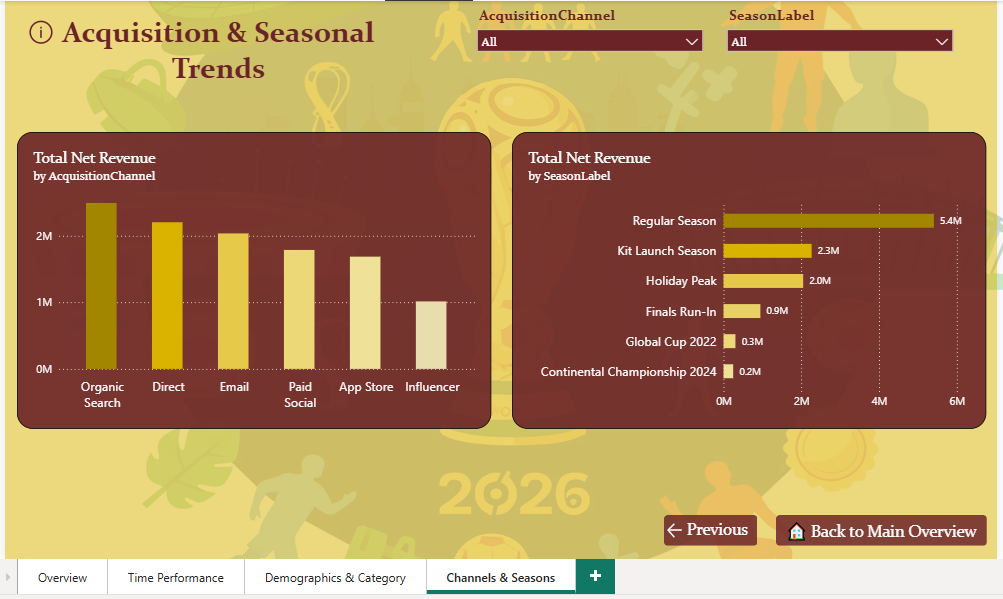

The page's visual inventory and layout, read from the dashboard file:
{"tool":"powerbi","page":{"name":"Channels & Seasons","canvas":[1280,720],"ordinal":3},"visuals":[{"type":"textbox","box":[22.7,17,504.6,106.3],"z":0},{"type":"barChart","fields":{"Category":["Date.SeasonLabel"],"Y":["Sales.Total Net Revenue"]},"box":[654.8,168.7,612.3,382.7],"z":1000},{"type":"columnChart","fields":{"Category":["Customer.AcquisitionChannel"],"Y":["Sales.Total Net Revenue"]},"box":[15.6,168.7,612.3,382.7],"z":2000},{"type":"slicer","fields":{"Values":["Customer.AcquisitionChannel"]},"box":[603.8,7.1,301.9,70.9],"z":3000},{"type":"slicer","fields":{"Values":["Date.SeasonLabel"]},"box":[926.9,7.1,301.9,70.9],"z":4000},{"type":"actionButton","box":[850.4,663.3,120.5,39.7],"z":5000},{"type":"actionButton","box":[995,663,272.1,39.7],"z":6000},{"type":"actionButton","box":[22,17,49,46],"z":8000}]}

Visuals, with their boxes in screenshot pixels (x1, y1, x2, y2):
textbox: left=20, top=13, right=410, bottom=95
barChart - Date.SeasonLabel x Sales.Total Net Revenue: left=509, top=130, right=982, bottom=426
columnChart - Customer.AcquisitionChannel x Sales.Total Net Revenue: left=15, top=130, right=488, bottom=426
slicer - Customer.AcquisitionChannel: left=469, top=5, right=702, bottom=60
slicer - Date.SeasonLabel: left=719, top=5, right=952, bottom=60
actionButton: left=660, top=513, right=753, bottom=543
actionButton: left=772, top=512, right=982, bottom=543
actionButton: left=20, top=13, right=57, bottom=49
